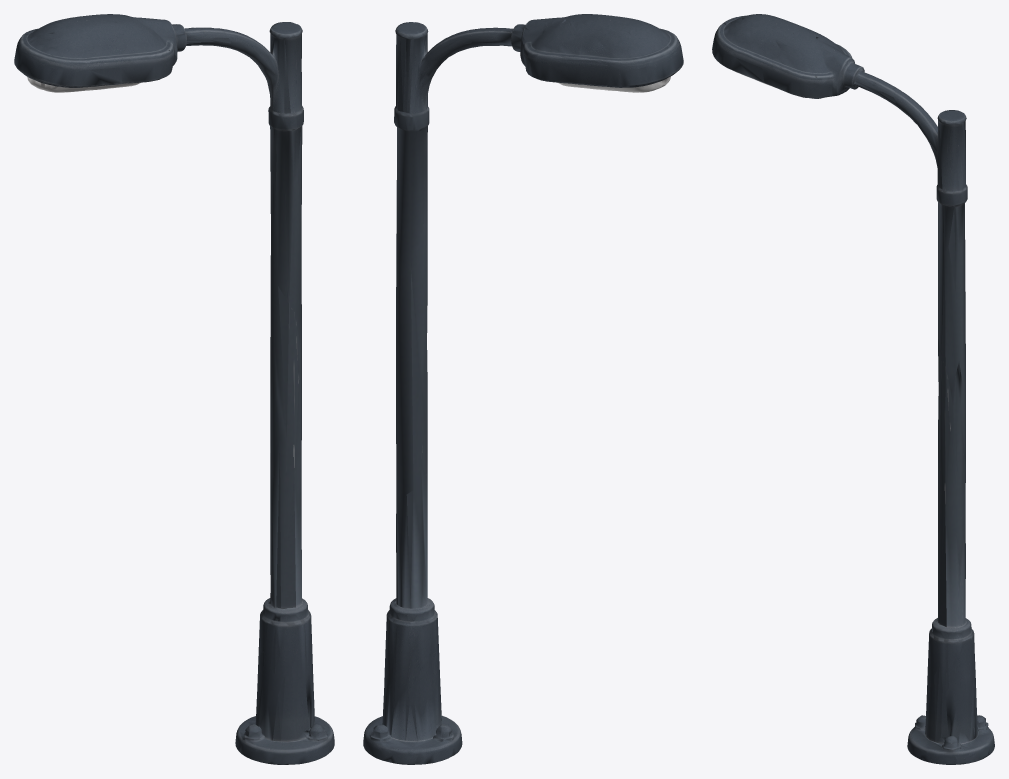
Rendered from prop_street_lamp_model.glb.
3 views of the same model, side by side, from view 1: azimuth 30°, elevation 25°; view 2: azimuth 150°, elevation 25°; view 3: azimuth 330°, elevation 25° (orthographic). The views are drawn at different scales.
Visible parts, largest first — view 1: Mesh_0.002; view 2: Mesh_0.002; view 3: Mesh_0.002.
Boxes of the visible parts, bbox=[...] form: Mesh_0.002: bbox=[14, 14, 334, 764]; Mesh_0.002: bbox=[363, 14, 683, 764]; Mesh_0.002: bbox=[712, 14, 994, 764].
Size of the model in its own units: 1.74 by 4.2 by 0.4894.
Materials: 1 (1 with a texture image).
